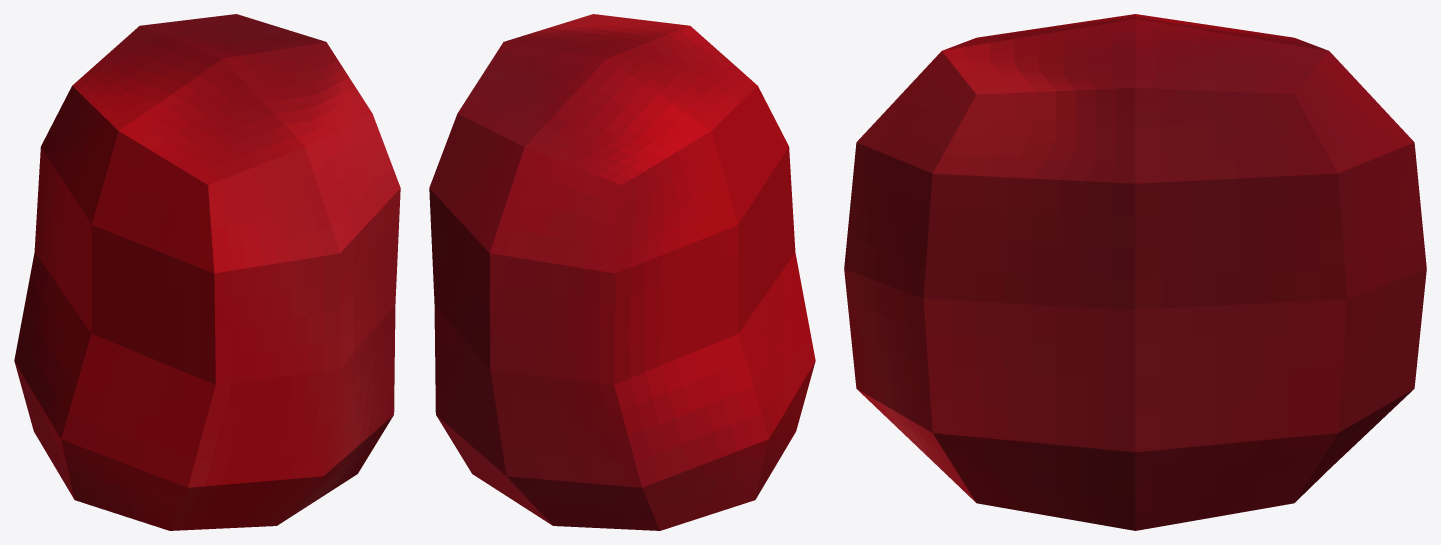
The model's file is gib.glb.
3 renders of one model, left to right at view 1: azimuth 30°, elevation 25°; view 2: azimuth 150°, elevation 25°; view 3: azimuth 270°, elevation 25°, orthographic. The views are drawn at different scales.
Visible parts, largest first — view 1: Cube; view 2: Cube; view 3: Cube.
Boxes of the visible parts, left/top/right/bottom form: Cube: left=14, top=14, right=400, bottom=530; Cube: left=429, top=14, right=815, bottom=530; Cube: left=844, top=14, right=1426, bottom=530.
Bounding box in the file's own units: 1.23 × 1.72 × 1.83.
Materials: 1 (1 with a texture image).
